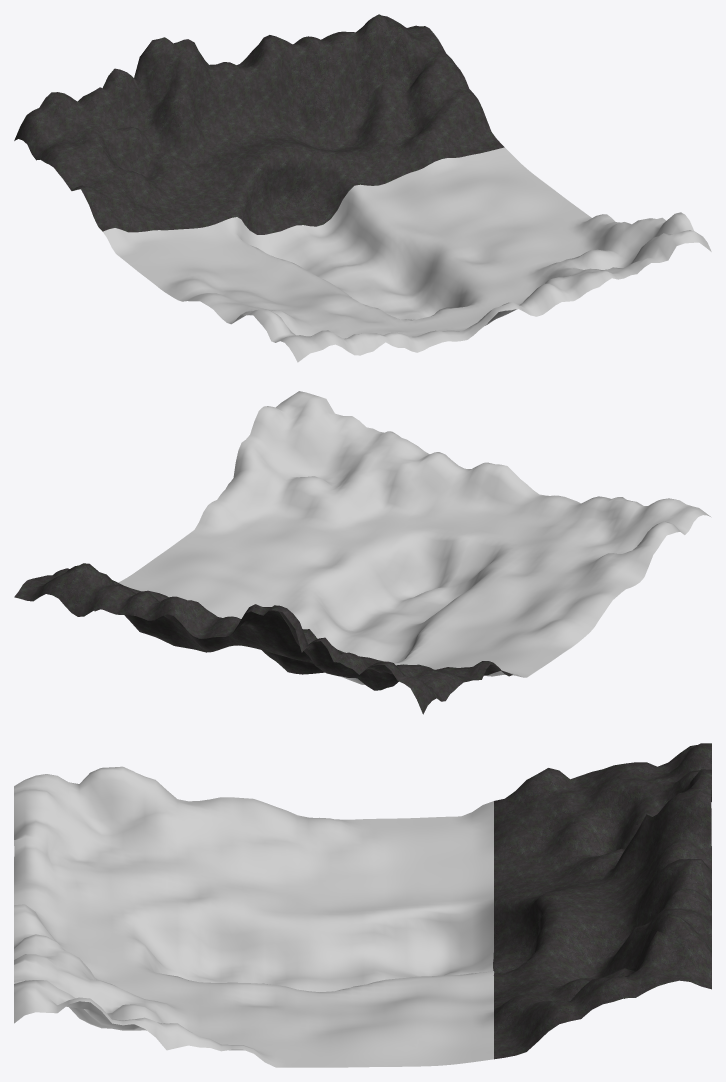
Rendered from valmisground.fbx.
3 views of the same model, one above another, from view 1: azimuth 30°, elevation 25°; view 2: azimuth 150°, elevation 25°; view 3: azimuth 270°, elevation 25° (orthographic). The views are drawn at different scales.
Parts seen in each view (by area): view 1: polySurface2; view 2: polySurface2; view 3: polySurface2.
Boxes of the visible parts, box(x1,y1,x2,y2) form: polySurface2: box(14, 14, 711, 362); polySurface2: box(14, 391, 711, 714); polySurface2: box(14, 743, 711, 1067).
Bounding box in the file's own units: 9269 × 3374 × 11000.
